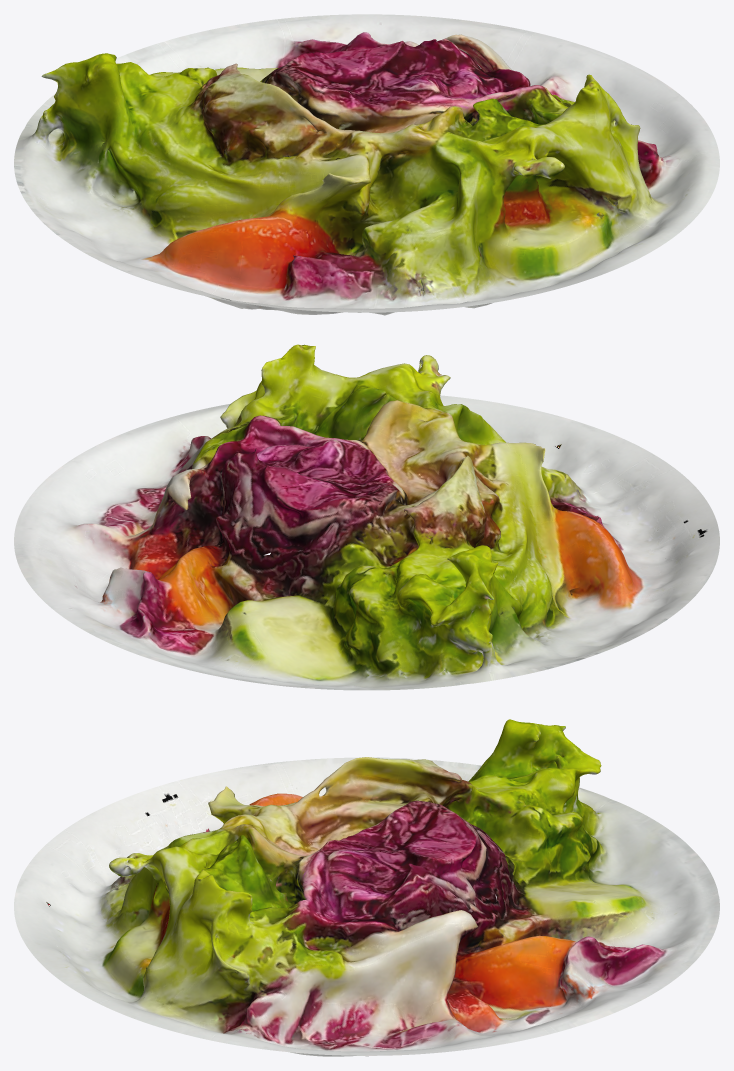
File: salad (1).glb
3 renders of one model, top to bottom at view 1: azimuth 30°, elevation 25°; view 2: azimuth 150°, elevation 25°; view 3: azimuth 270°, elevation 25°, orthographic.
Visible parts, largest first — view 1: Object_3; view 2: Object_3; view 3: Object_3.
Boxes of the visible parts, box(x1,y1,x2,y2) form: Object_3: box(14, 14, 719, 315); Object_3: box(14, 344, 719, 690); Object_3: box(14, 719, 719, 1056).
Size of the model in its own units: 227 by 50.39 by 227.
1 material, 1 textured.
